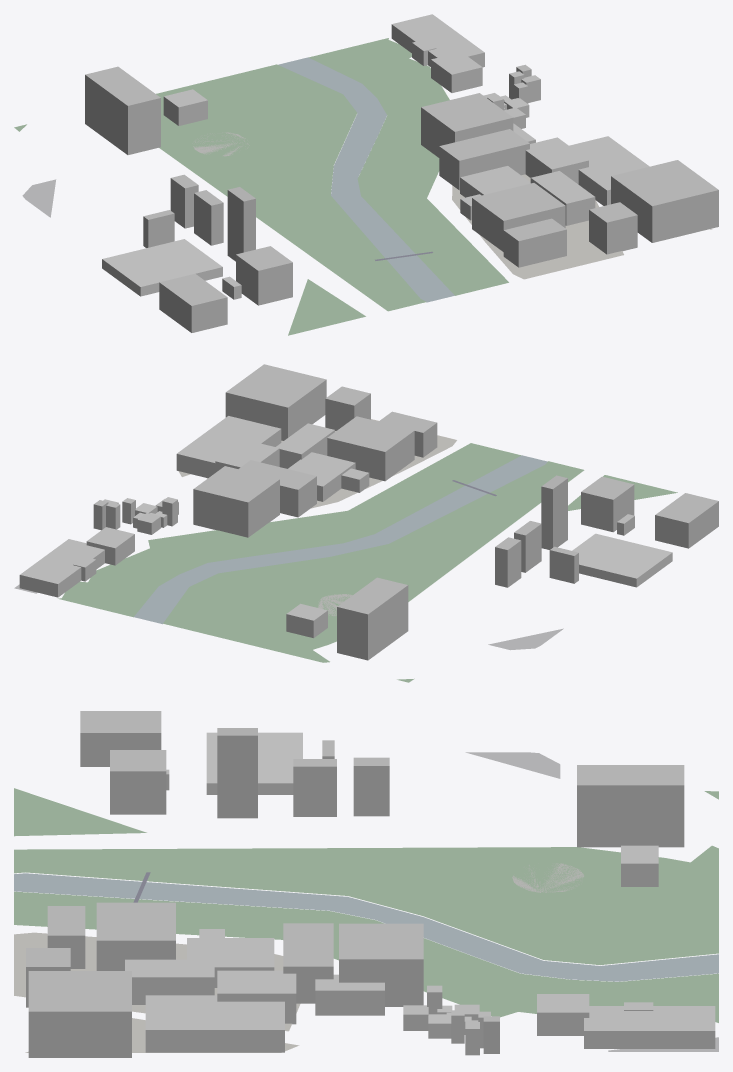
The model's file is 131_99_mid.glb.
3 renders of one model, top to bottom at view 1: azimuth 30°, elevation 25°; view 2: azimuth 150°, elevation 25°; view 3: azimuth 270°, elevation 25°, orthographic. The views are drawn at different scales.
Size of the model in its own units: 521 by 66.52 by 500.
